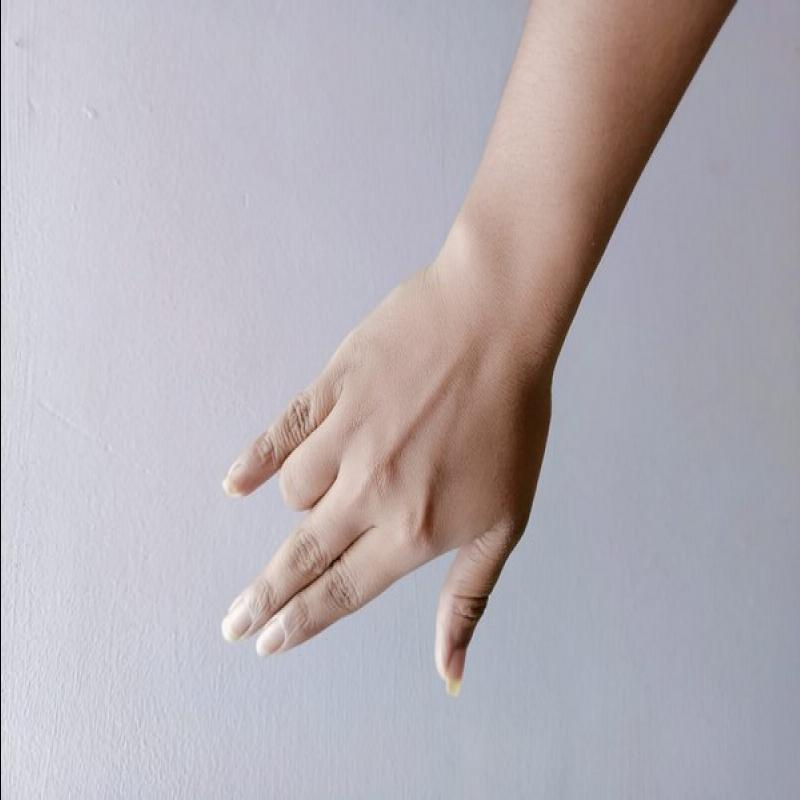Pathaaka: (184, 286, 569, 706)
